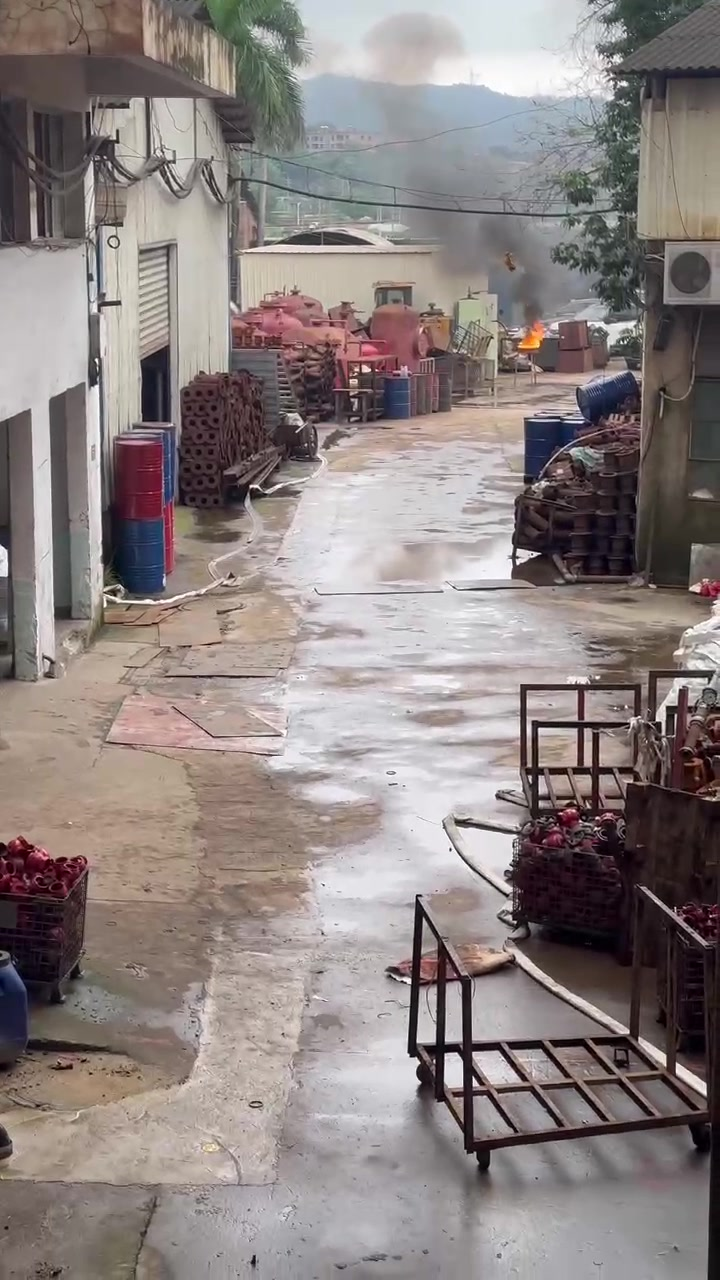fire: (517, 320, 543, 347)
